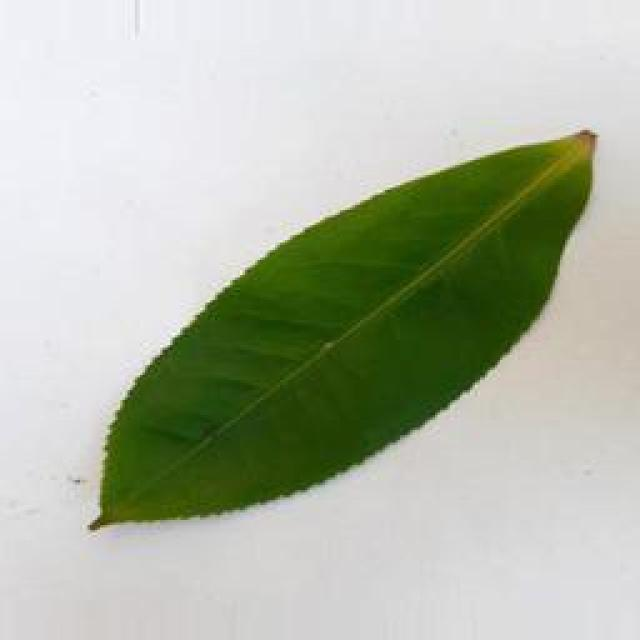Healthy: (80, 112, 611, 540)
